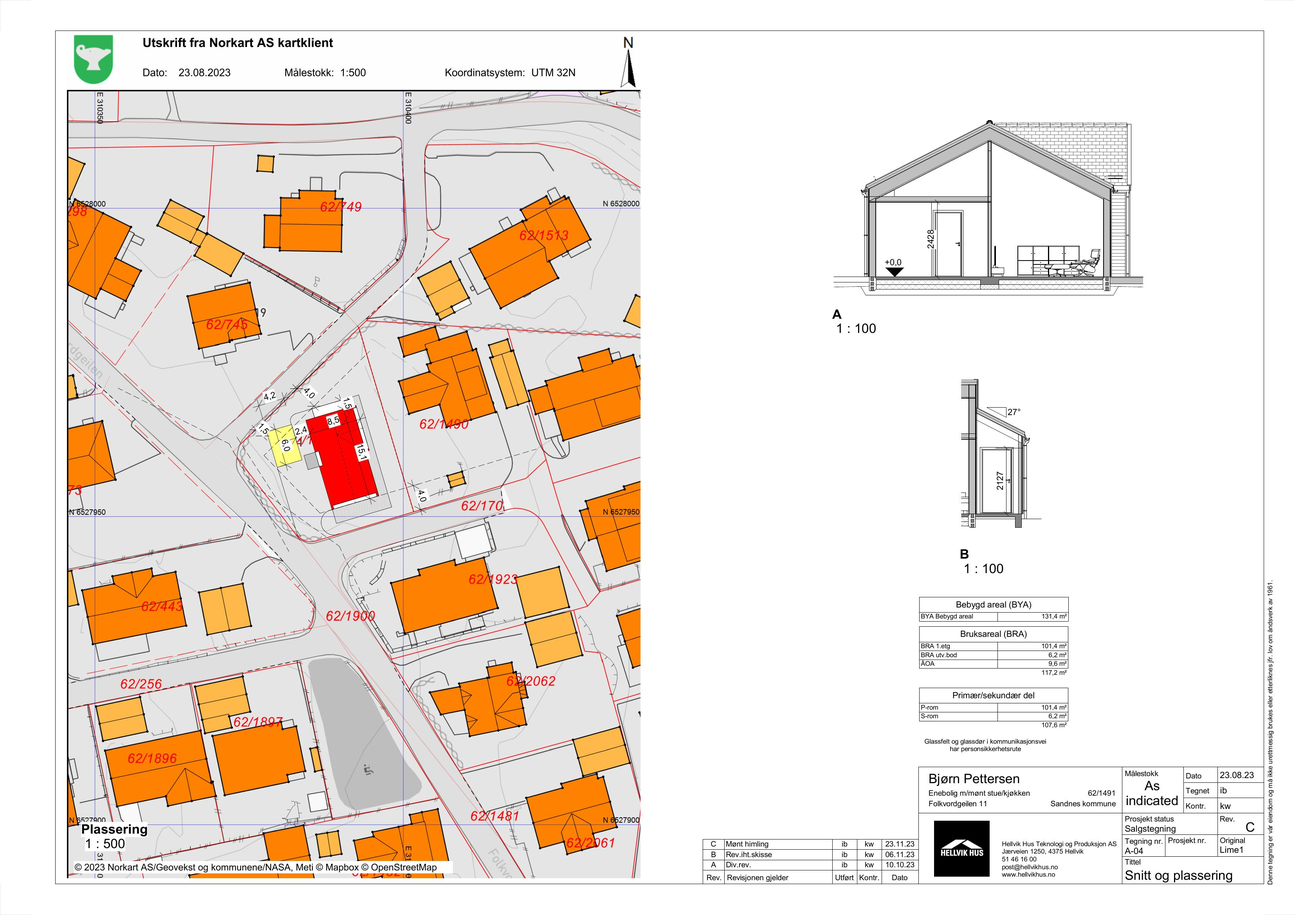situasjonskart: (65, 87, 645, 879)
snitt: (833, 117, 1144, 297), (958, 377, 1043, 530)
